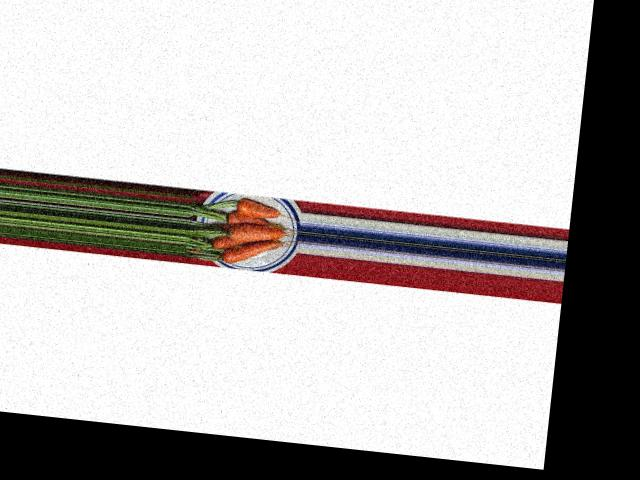carrot: (231, 195, 282, 222)
